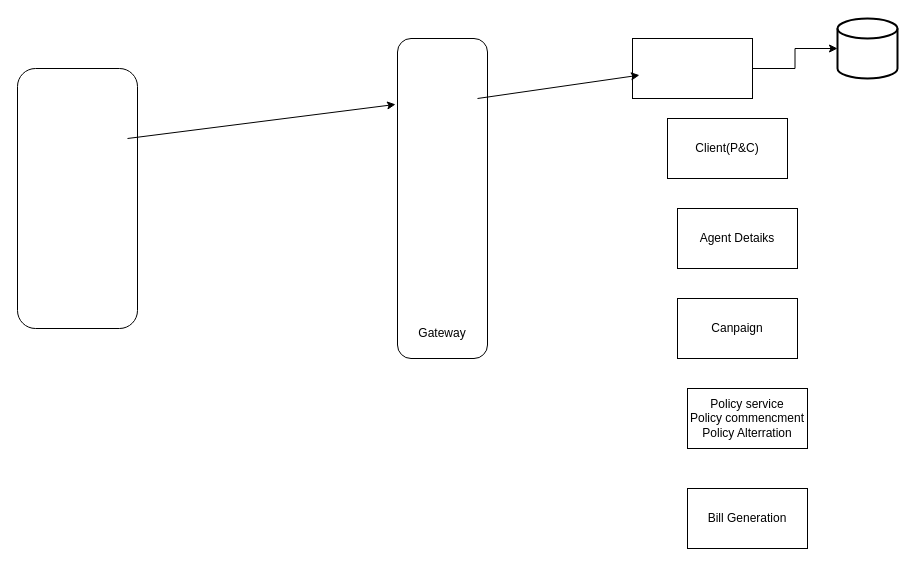
The diagram is 916 pixels wide and 566 high, and some of its shapes have lost their labels. Each missing label, with the centre of its shape:
"AuthSevice" goes at point 692,68.
"FrontEnd" goes at point 77,198.
